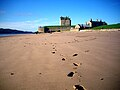human_foot_print: (73, 85, 85, 89), (69, 70, 75, 78), (71, 63, 81, 67), (70, 52, 78, 57), (60, 58, 67, 62), (51, 51, 57, 55)
